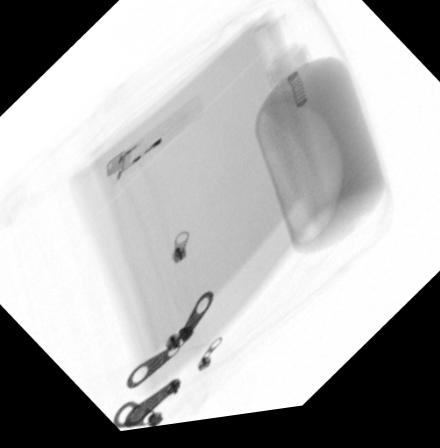Lighter: (105, 99, 205, 186)
